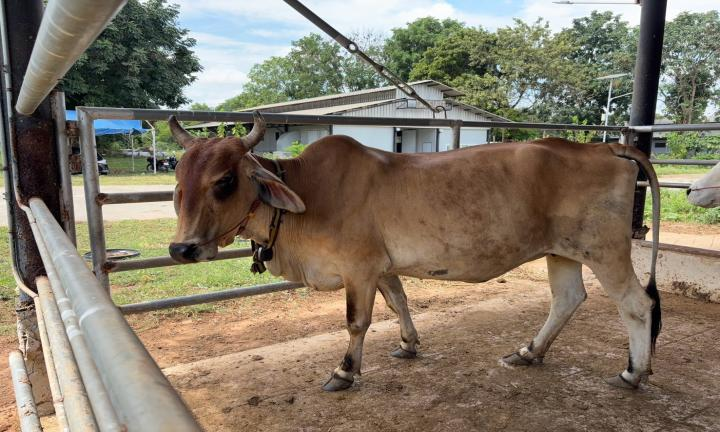Brahman: (169, 112, 660, 391)
